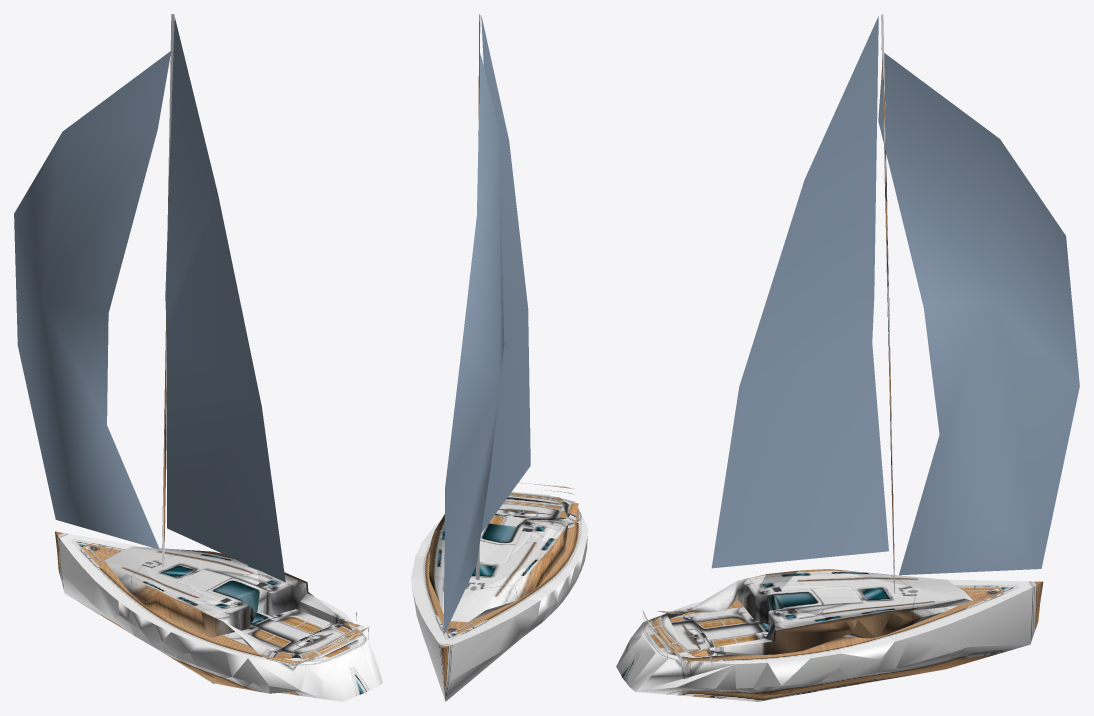
Rendered from ship.d3442526.fbx.
3 renders of one model, left to right at view 1: azimuth 30°, elevation 25°; view 2: azimuth 150°, elevation 25°; view 3: azimuth 270°, elevation 25°, orthographic. The views are drawn at different scales.
Visible parts, largest first — view 1: 3DXY_geometry_001_3DJD; view 2: 3DXY_geometry_001_3DJD; view 3: 3DXY_geometry_001_3DJD.
Part boxes in pixels (<box>): 3DXY_geometry_001_3DJD: <box>14,14,382,701</box>; 3DXY_geometry_001_3DJD: <box>411,14,587,701</box>; 3DXY_geometry_001_3DJD: <box>616,14,1079,701</box>.
Bounding box in the file's own units: 249 × 835 × 536.
2 materials, 1 textured.
